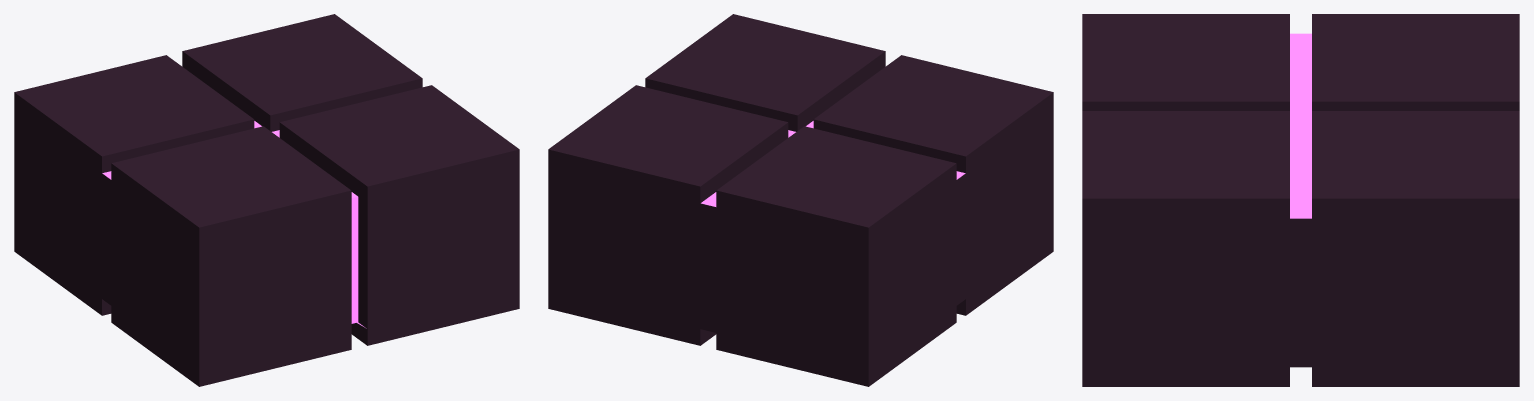
Rendered from Semi-block_3_hook.fbx.
3 renders of one model, left to right at view 1: azimuth 30°, elevation 25°; view 2: azimuth 150°, elevation 25°; view 3: azimuth 270°, elevation 25°, orthographic. The views are drawn at different scales.
Visible parts, largest first — view 1: Semi-block_2_hook; view 2: Semi-block_2_hook; view 3: Semi-block_2_hook.
Boxes of the visible parts, <box> form: Semi-block_2_hook: <box>14,14,519,386</box>; Semi-block_2_hook: <box>548,14,1053,386</box>; Semi-block_2_hook: <box>1082,14,1519,386</box>.
Size of the model in its own units: 1 by 0.475 by 1.
